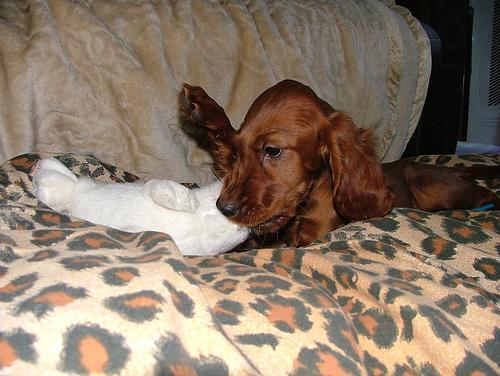Irish_setter: (169, 82, 499, 248)
